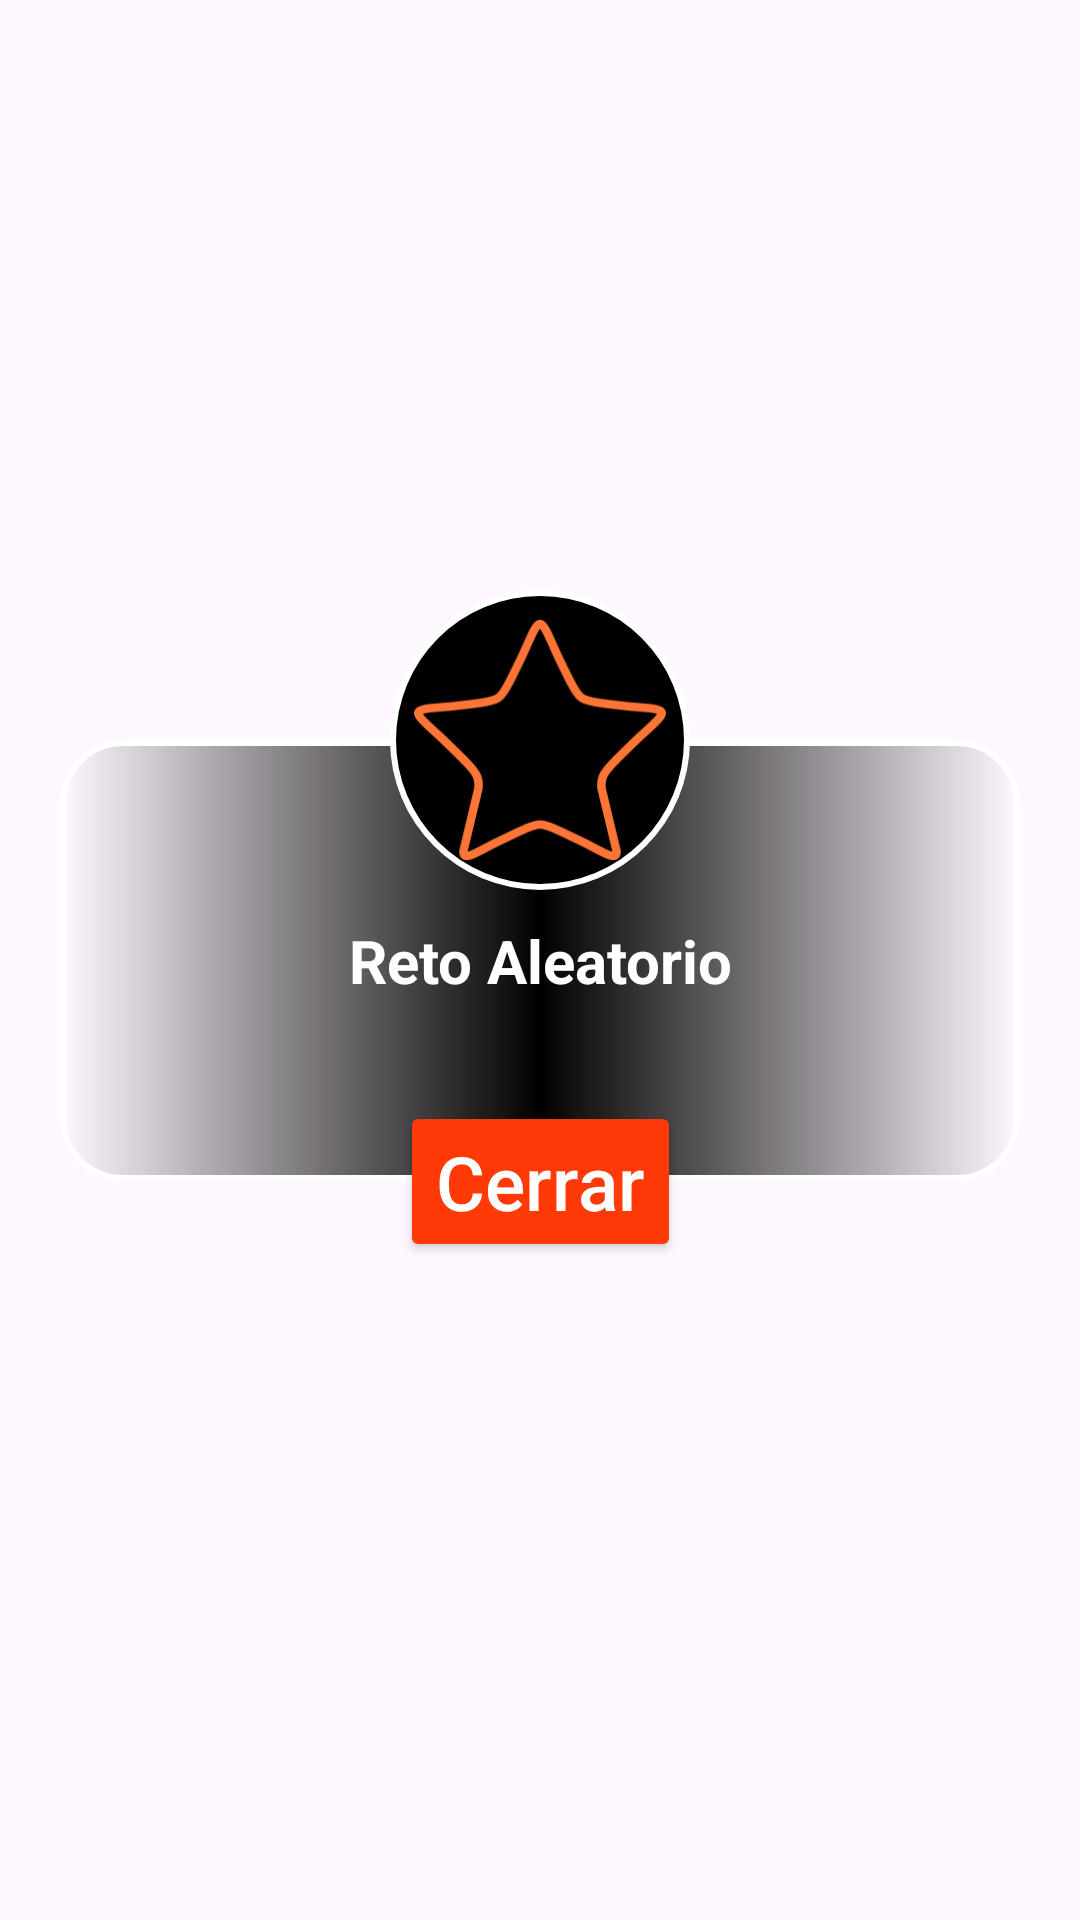

Icons on this 1080x1920 Android screen, each with the point to tap as [x,y]:
star: [540,740]
